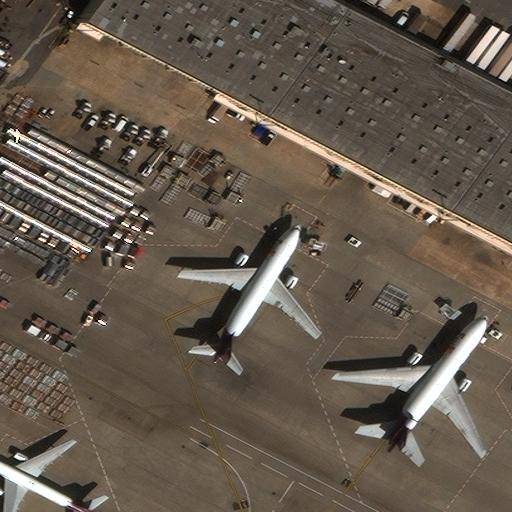Large Civil Transport: (337, 314, 487, 450), (183, 223, 321, 364), (0, 439, 92, 512)
